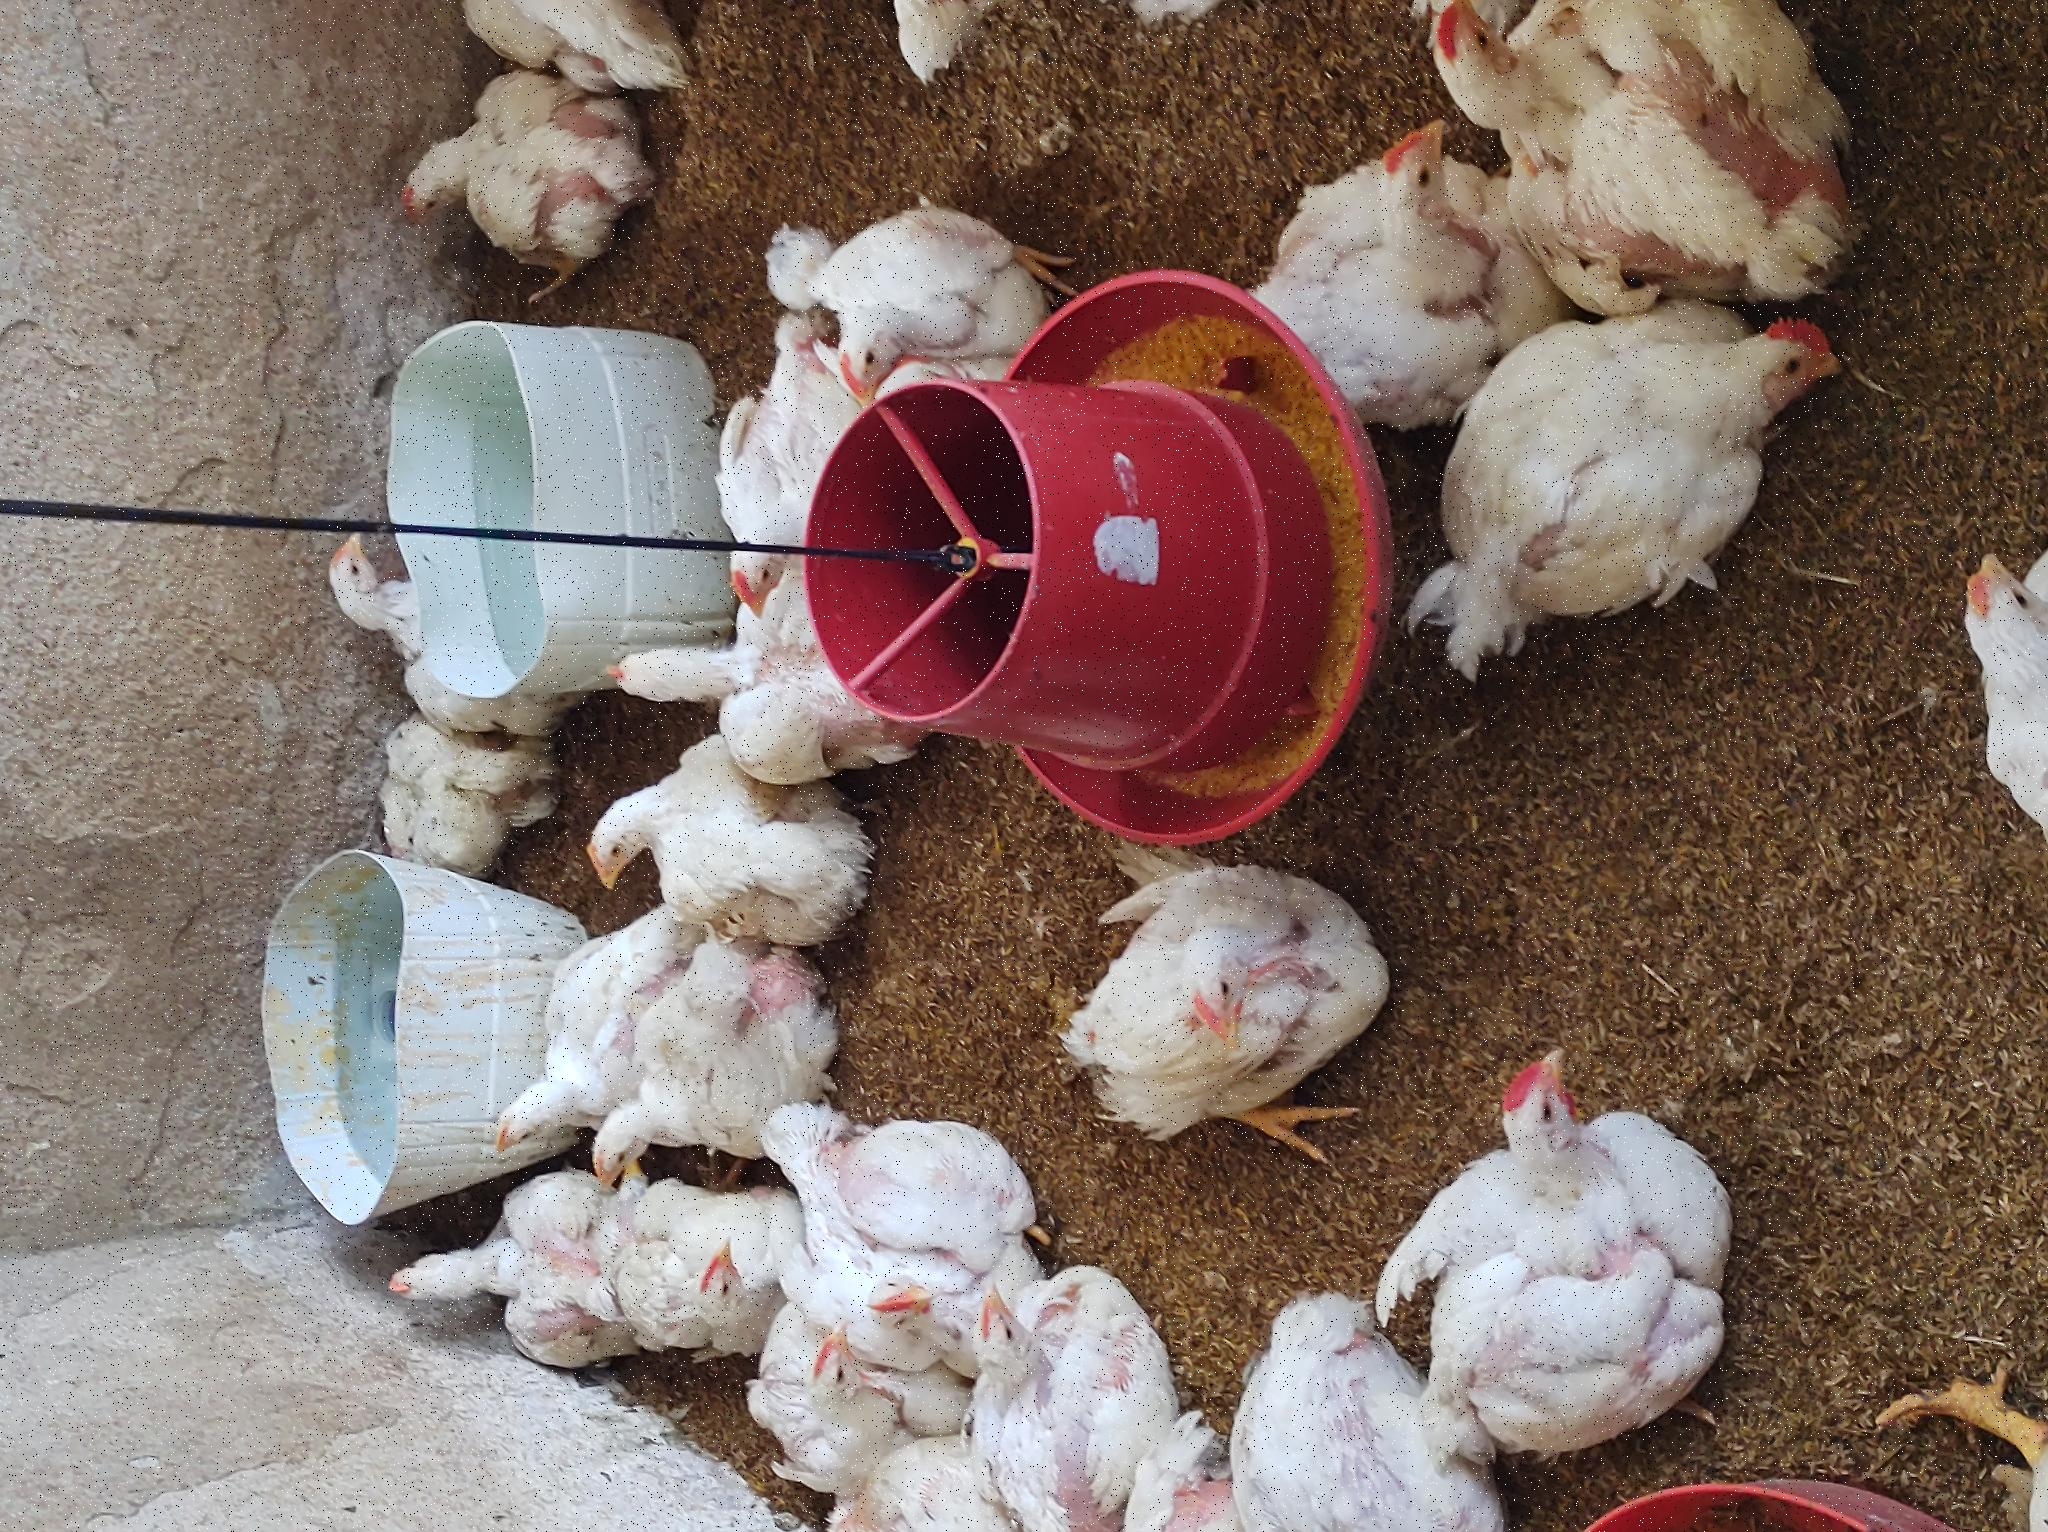Pollos: (409, 1075, 750, 1381), (1149, 1218, 1413, 1492), (35, 1379, 492, 1532), (1083, 800, 1329, 1073), (816, 278, 1076, 534), (610, 586, 825, 887), (1248, 380, 1445, 706), (2, 1233, 262, 1474), (758, 599, 943, 912), (2, 957, 277, 1168), (331, 594, 595, 792), (145, 348, 323, 592), (933, 1392, 1229, 1532), (893, 689, 1134, 858), (615, 352, 825, 526), (373, 463, 537, 661), (1269, 1411, 1530, 1532), (151, 634, 376, 768), (18, 732, 204, 890), (1427, 428, 1520, 702), (174, 837, 365, 940)
